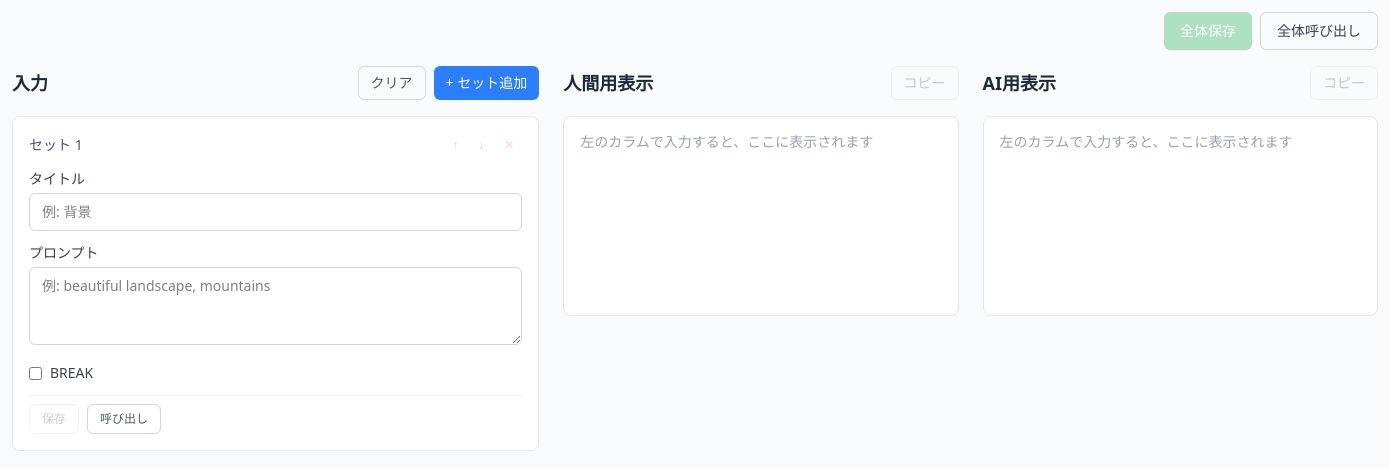
it: PromptGenerator › タイトルとプロンプトを入力すると中央カラムに反映される
Type "背景" into the field labelled "タイトル" at (276, 212), box left=29, top=193, right=522, bottom=231
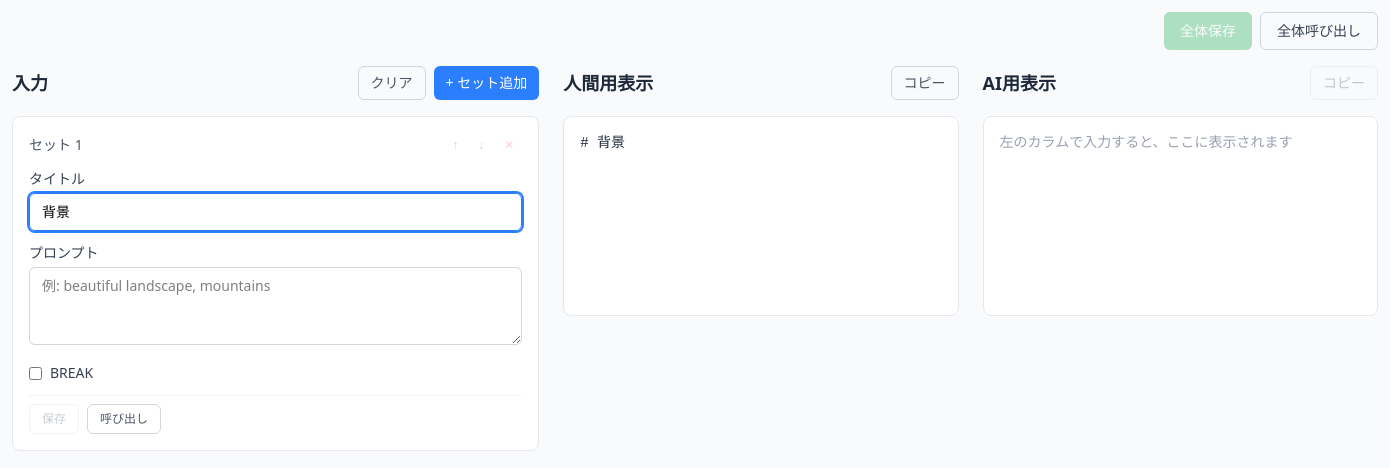
Type "landscape" into the text box labelled "プロンプト" at (276, 306), box left=29, top=267, right=522, bottom=345
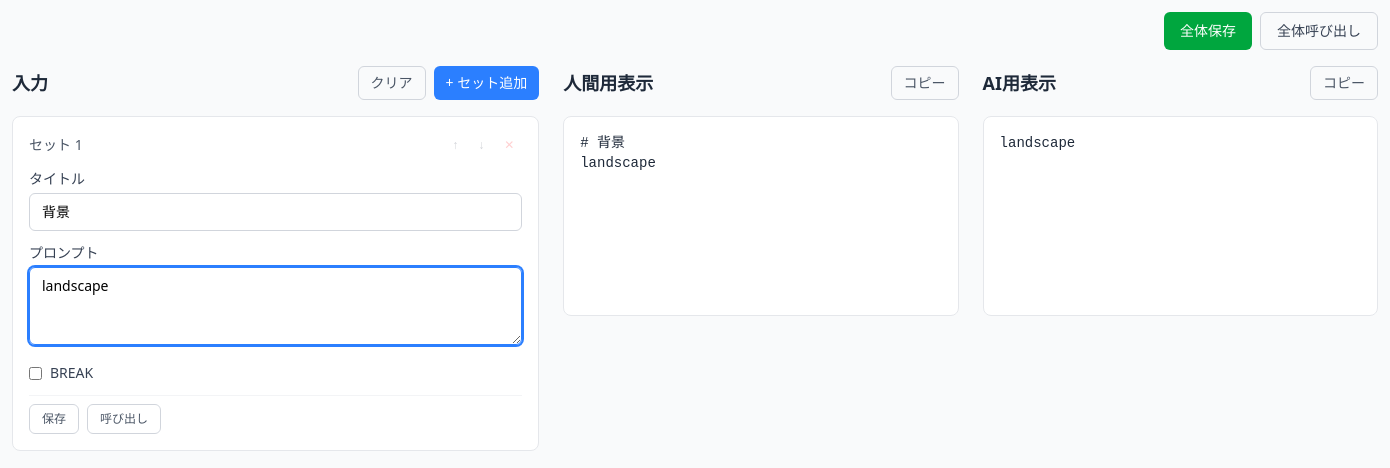
Result: the text with test id "human-readable-output" shows "# 背景" at left=580, top=135, right=656, bottom=171
Result: the text with test id "human-readable-output" shows "landscape" at left=580, top=135, right=656, bottom=171
